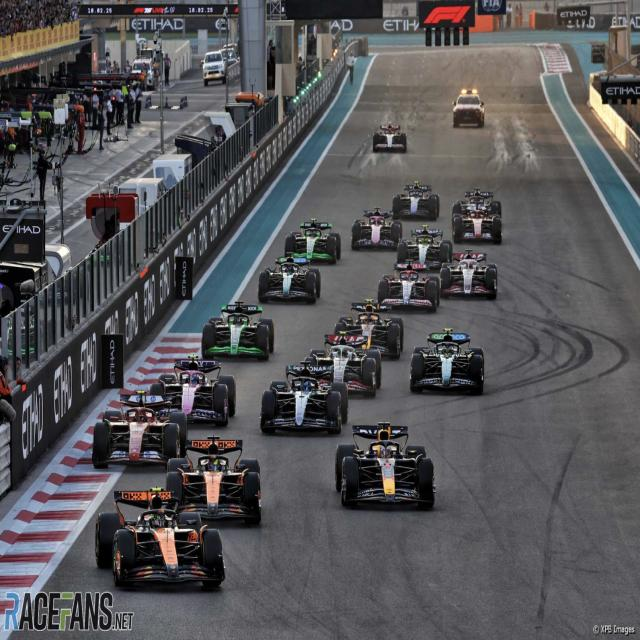Alpine: (151, 354, 237, 430), (353, 207, 402, 253)
Aston Martin: (411, 329, 485, 401), (259, 251, 322, 305)
Ferrari: (93, 389, 188, 471), (452, 200, 502, 247)
Haas: (304, 329, 383, 404), (440, 249, 498, 301)
Kick Sauber: (201, 299, 275, 365), (284, 219, 342, 265)
McLaren: (94, 487, 226, 598), (168, 434, 264, 526)
Mercedes: (262, 359, 349, 437), (397, 223, 453, 268)
Racing Bulls: (378, 258, 440, 317), (373, 124, 407, 156)
Red Bull: (335, 420, 438, 516), (335, 298, 403, 365)
Williams: (392, 181, 440, 222), (452, 187, 503, 216)
